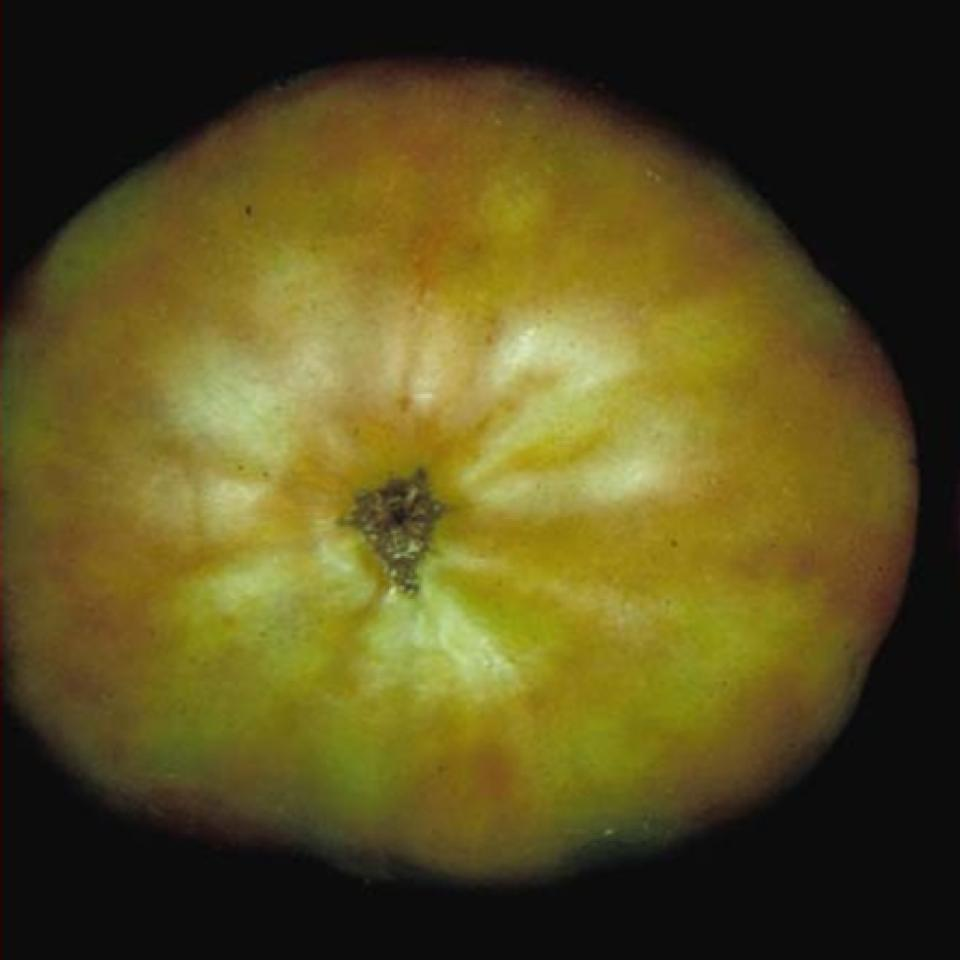Spotted wilt Virus: (0, 57, 923, 885)
